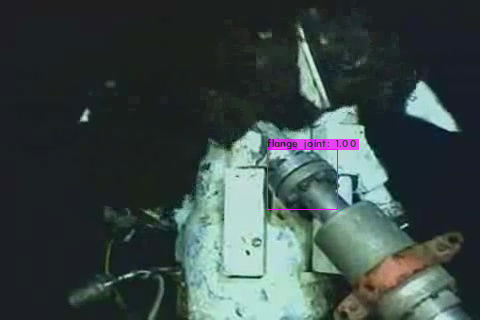flange joint: (266, 154, 342, 208)
